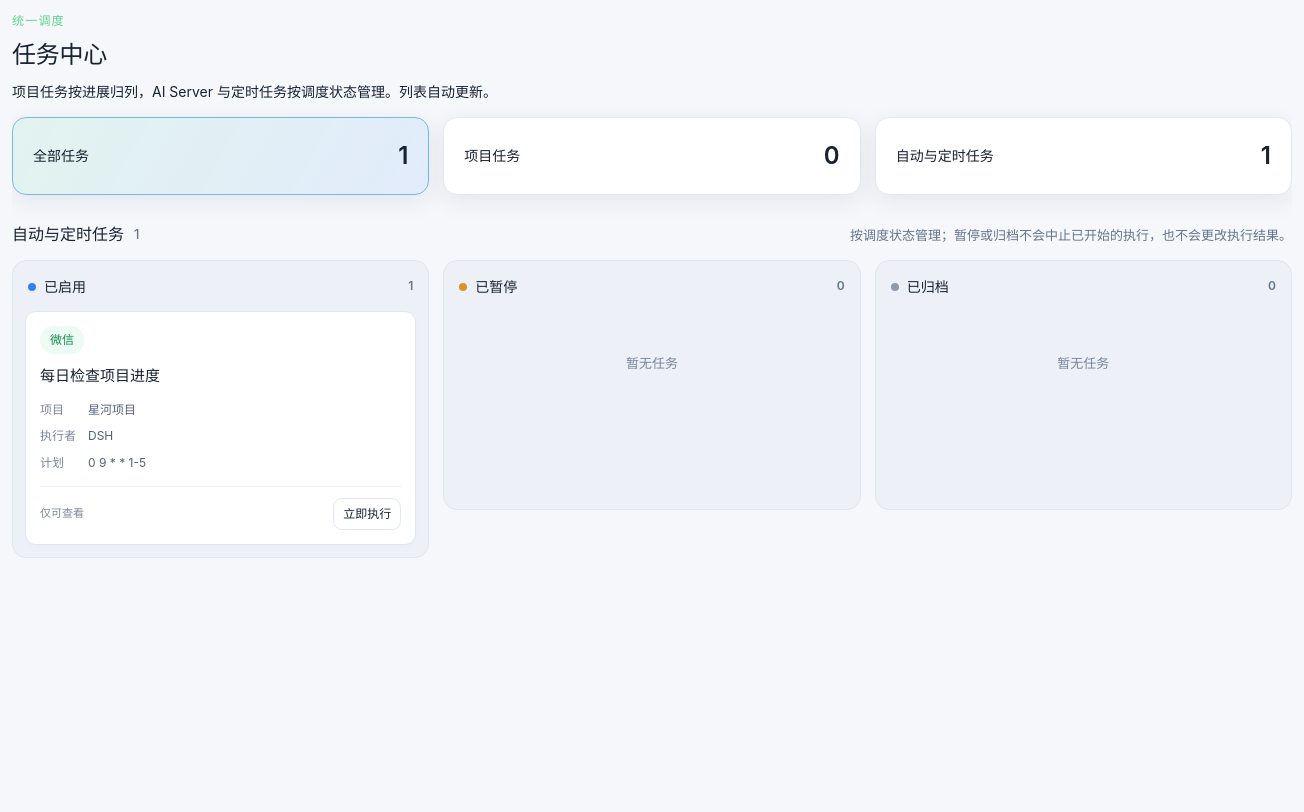
shows unified sources and lets an authorized user queue a DSH automation
Expected: the heading "每日检查项目进度" is shown, [40,366,160,385]
Expected: the text "微信" is shown, [40,326,84,354]
Click the button "立即执行": (367, 514) [333,498,401,530]
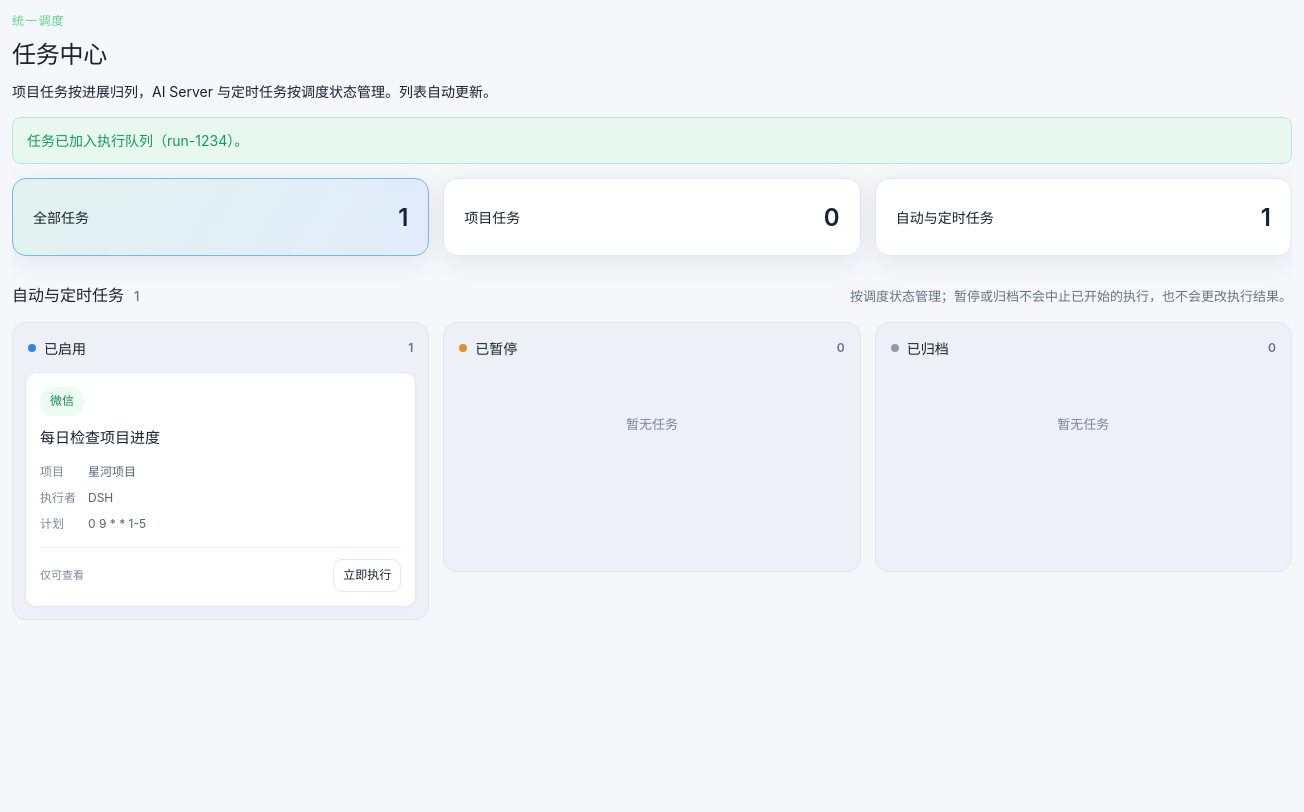
Expected: the text "任务已加入执行队列（run-1234）。" is shown, [12,117,1292,164]
